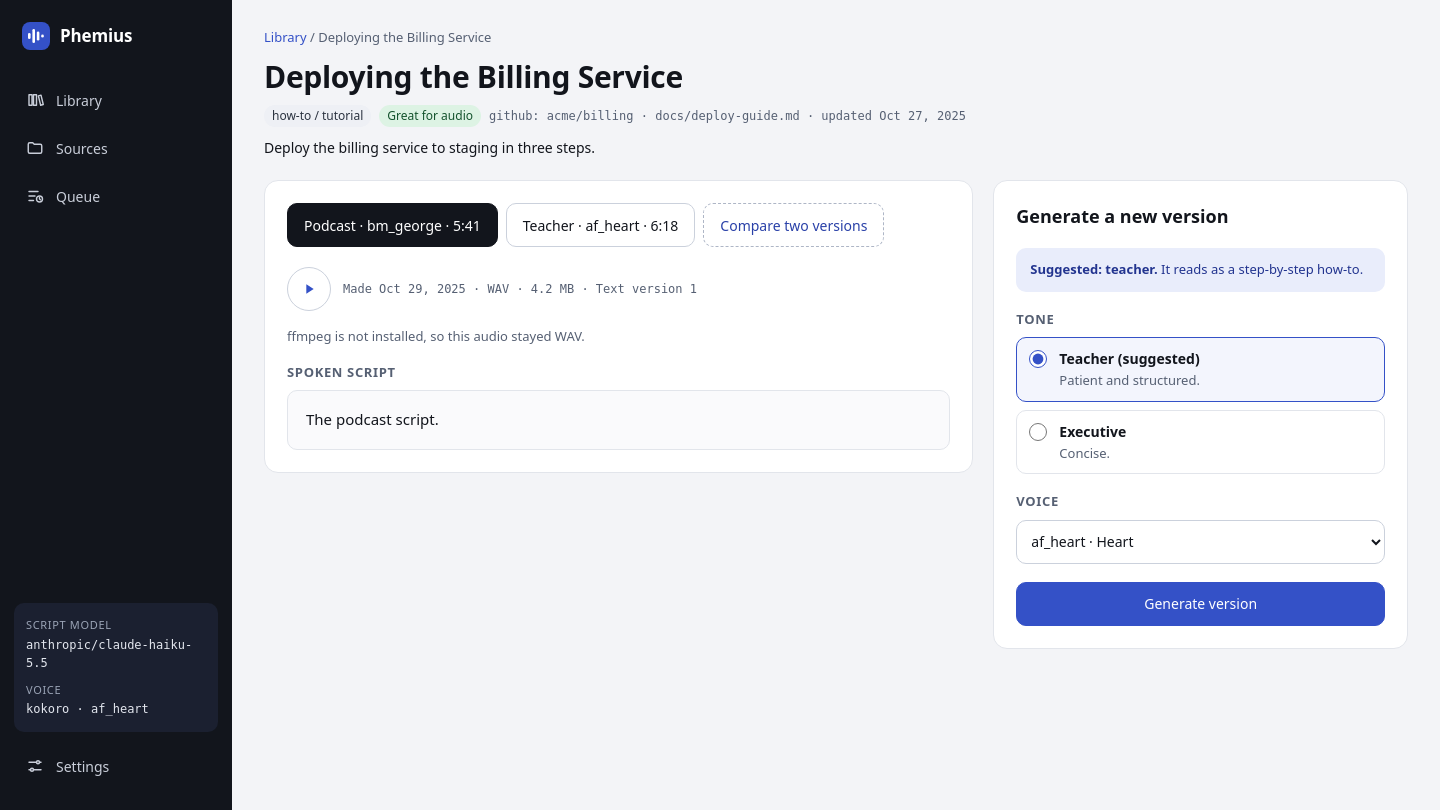
Test case: document page › shows the script of the selected version
Expected: the heading "Deploying the Billing Service" is shown, x1=264 y1=56 x2=683 y2=96
Expected: the text "The podcast script." is shown, x1=306 y1=409 x2=439 y2=429
Click the button "Teacher · af_heart · 6:18" at [601, 225], box x1=506 y1=203 x2=695 y2=247
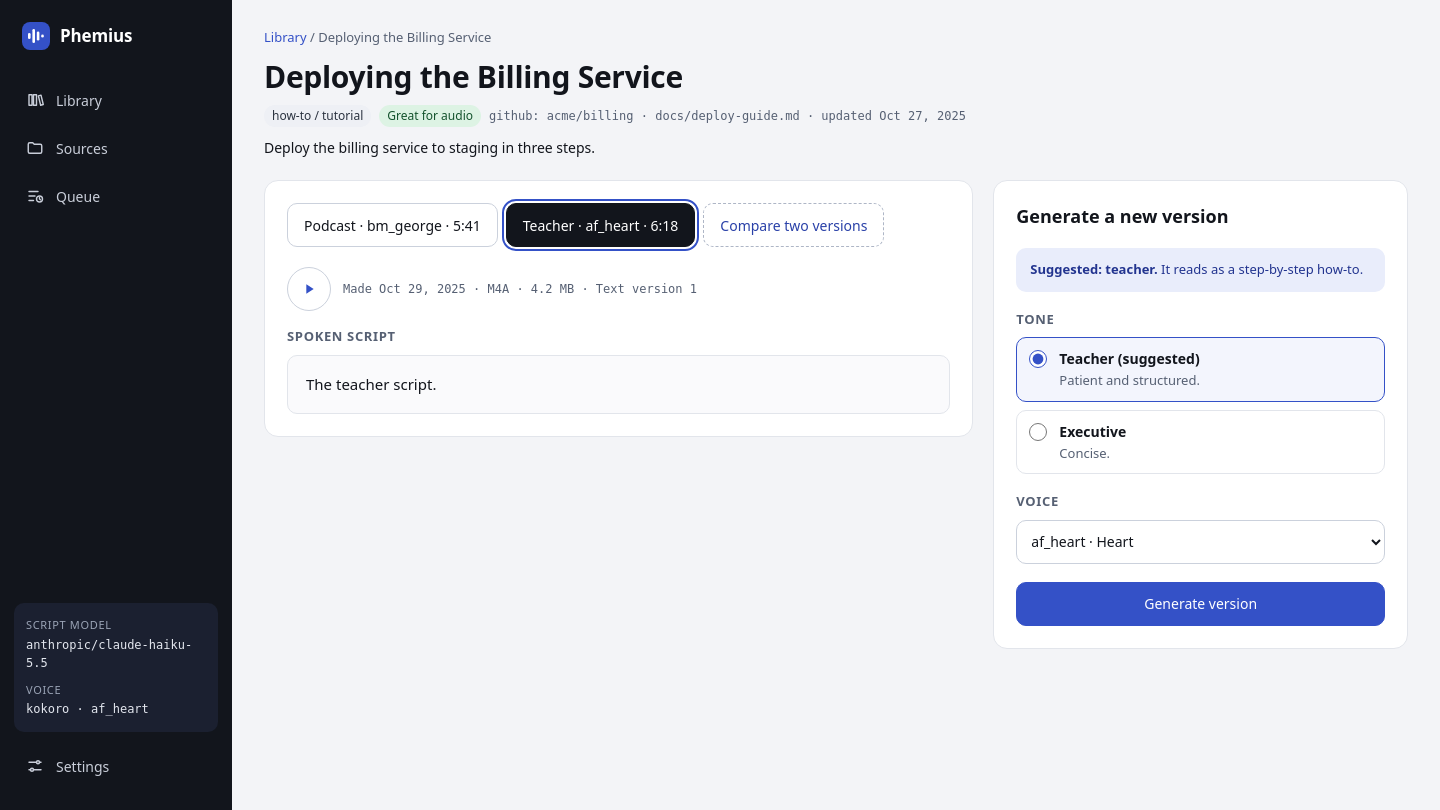
Expected: the text "The teacher script." is shown, x1=306 y1=374 x2=436 y2=394
Expected: the text "The podcast script." is gone
